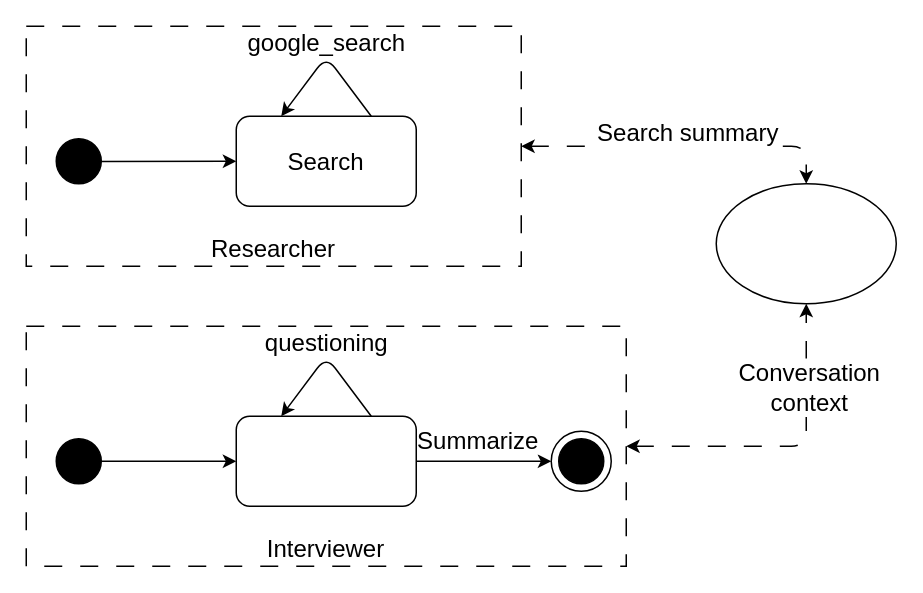
The diagram is 923 pixels wide and 593 high, and some of its shapes have lost their labels. Each missing label, with the box of its shape:
Gather: (235, 415, 416, 506)
Shared memory: (715, 182, 896, 304)
